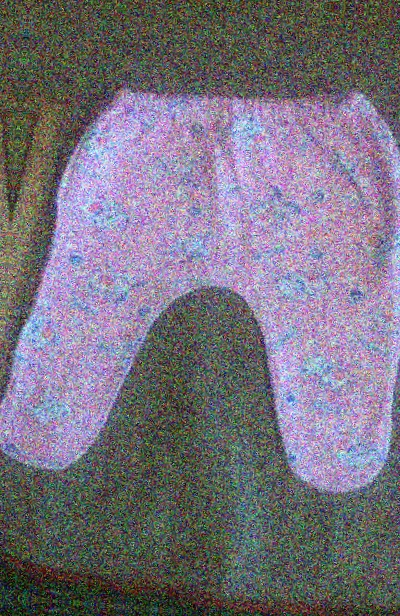Pants: (12, 67, 400, 520)
